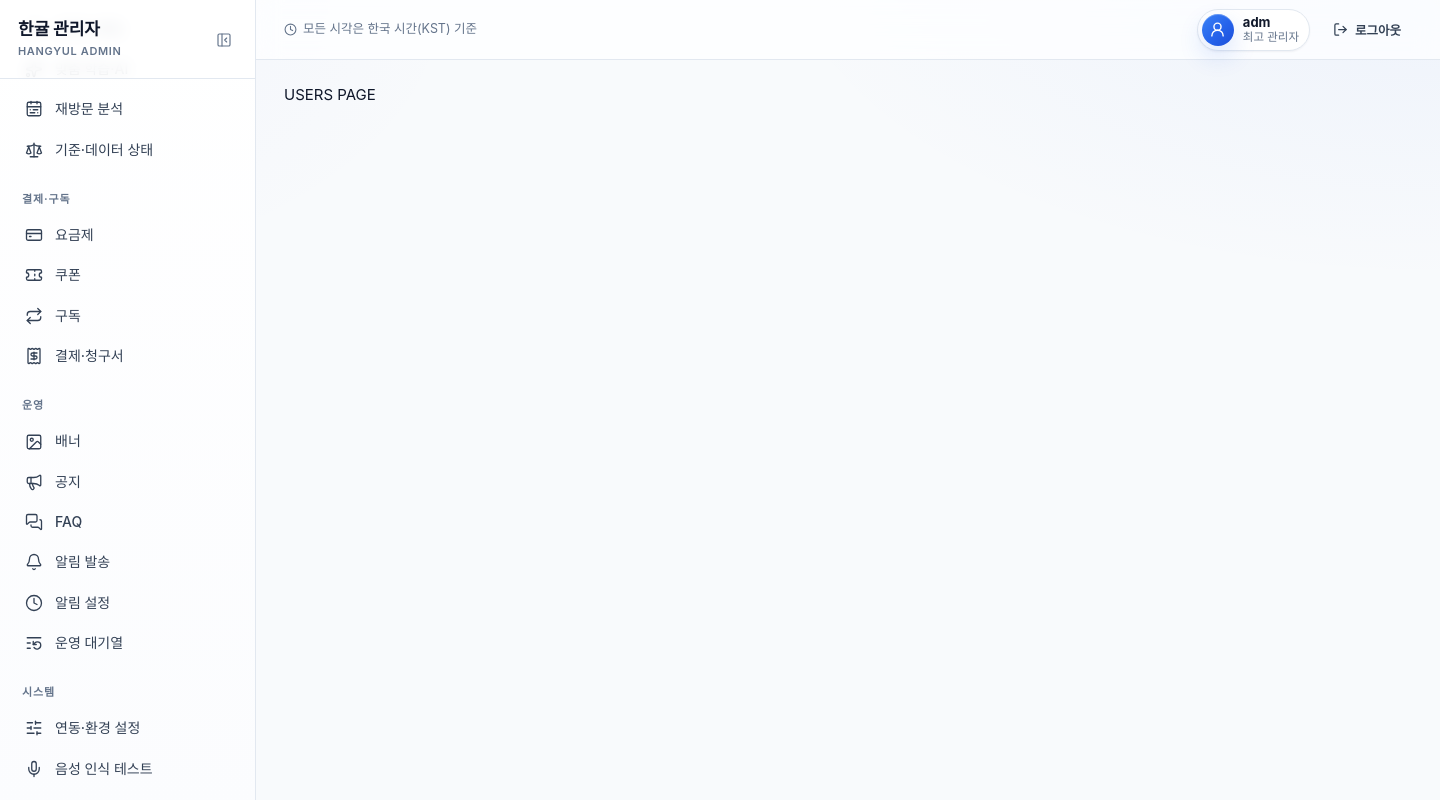
admin sidebar groups › folds a group away and opens it again
(page scrolled)
What coordinates should you click on to do the following:
click the button "운영"
I would click on:
 (128, 405)
Its box is [16,389,239,420].
(page scrolled)
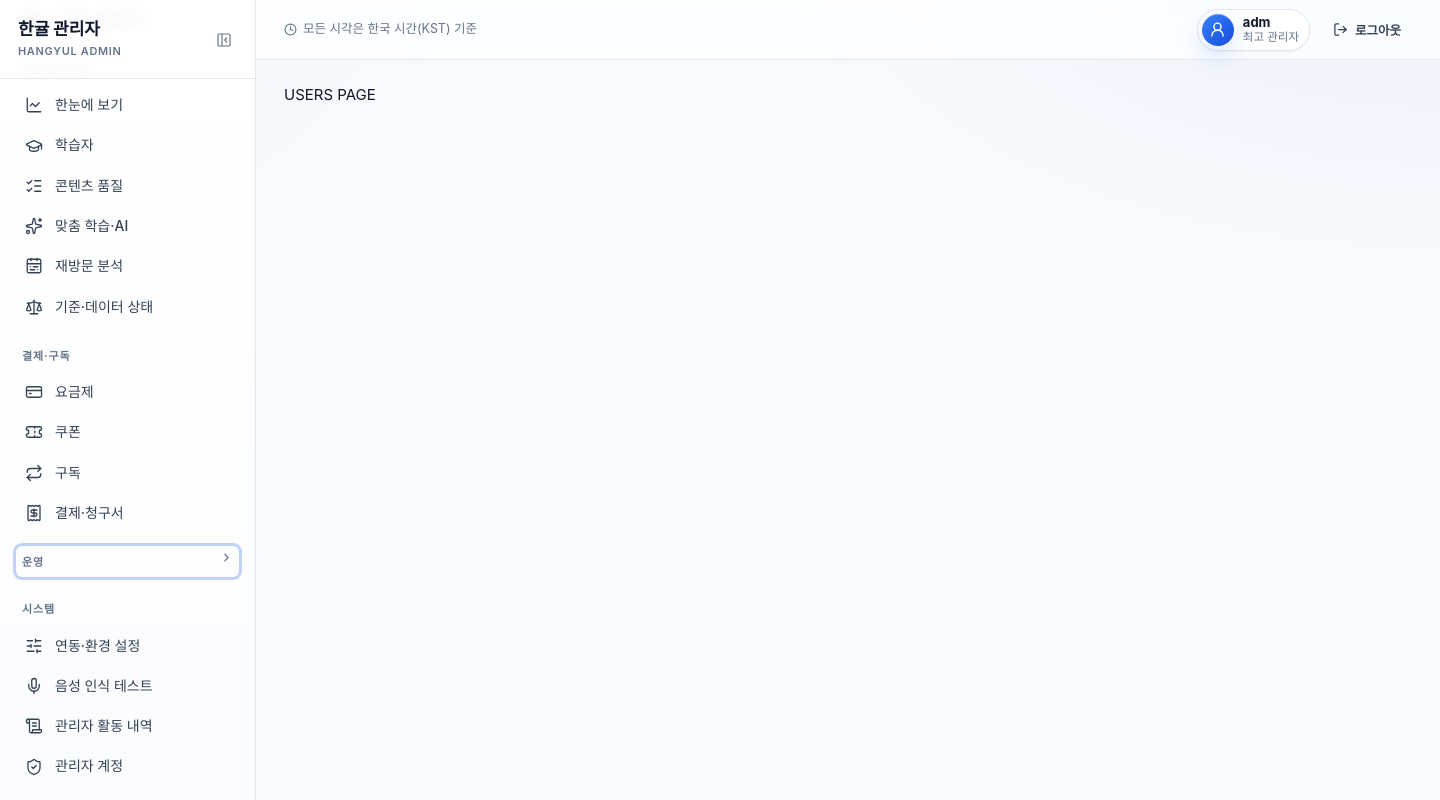
Now the button "운영" is collapsed
Now the link "공지" is gone
What coordinates should you click on to do the following:
click the button "운영"
I would click on:
 (128, 562)
Its box is [16,546,239,577].
(page scrolled)
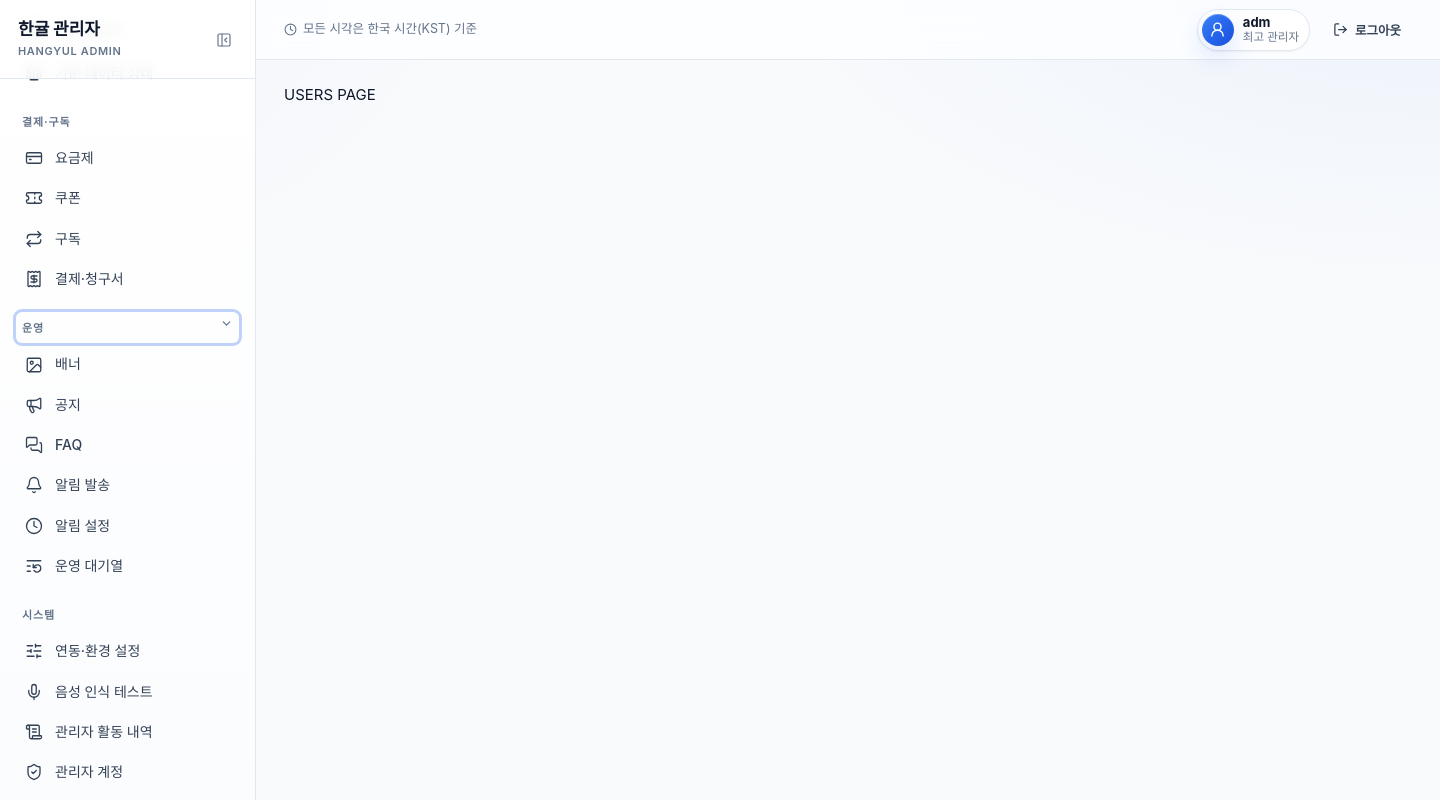
Now the link "공지" is shown, box [25,396,81,414]
